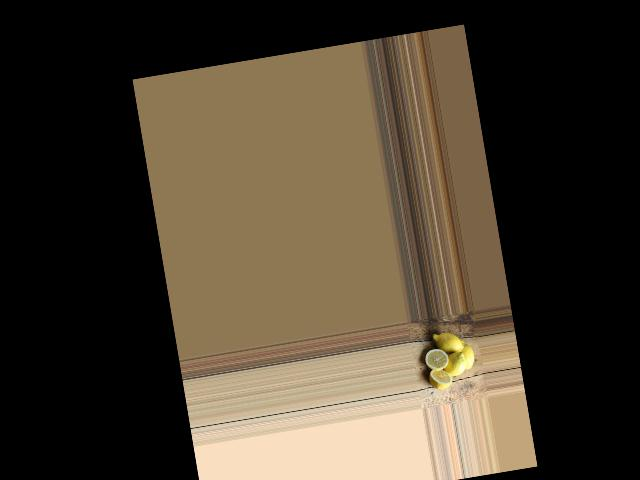lemon: (430, 326, 465, 357)
